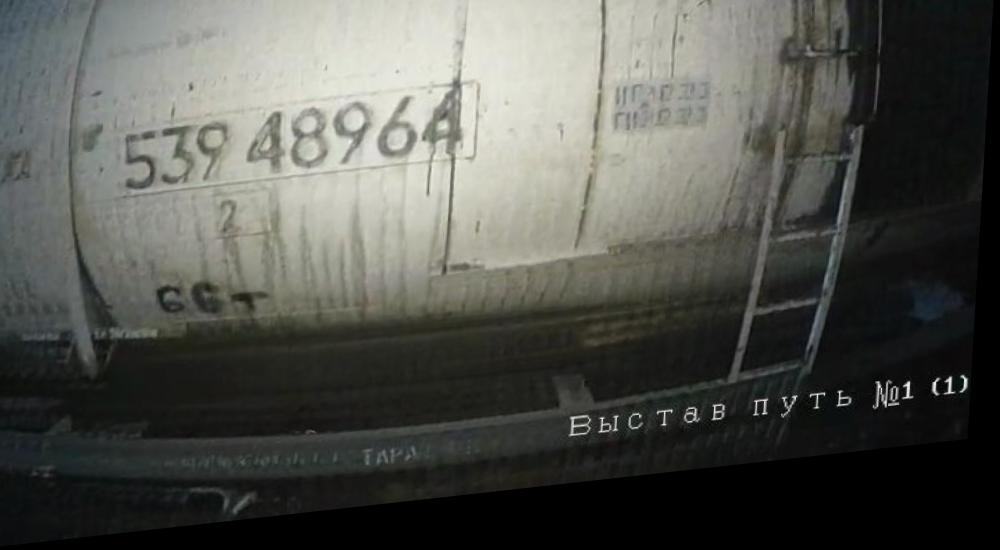Wagon-number: (122, 96, 472, 199)
